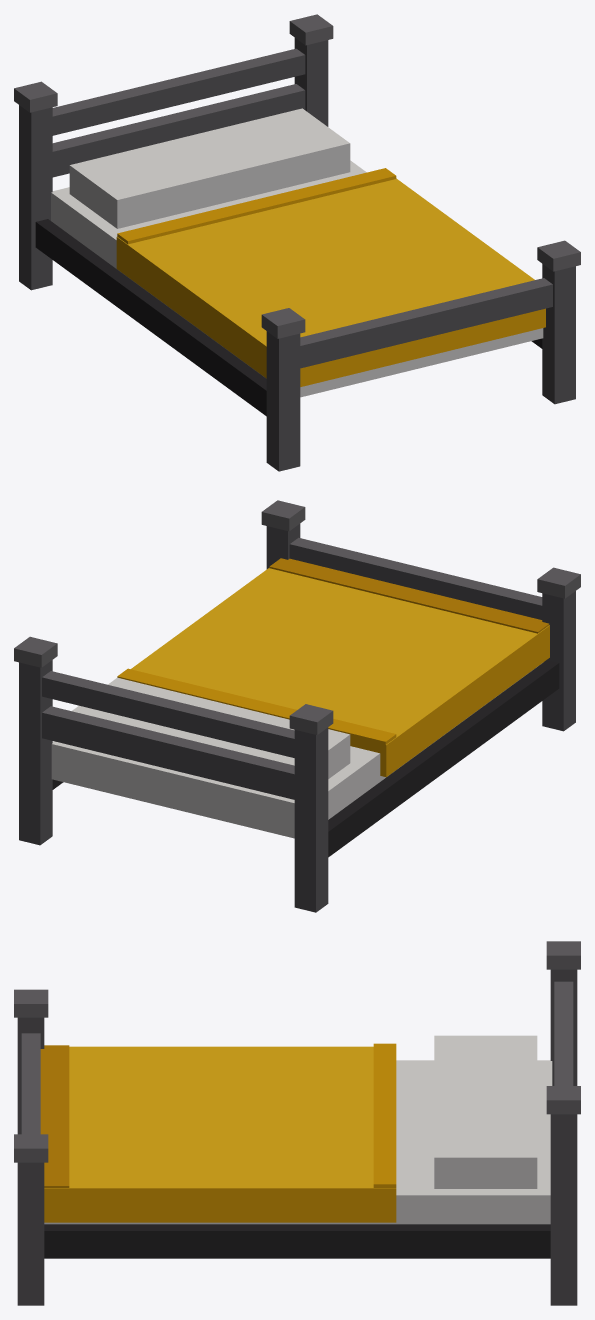
The model's file is bed_basic.fbx.
3 views of the same model, one above another, from view 1: azimuth 30°, elevation 25°; view 2: azimuth 150°, elevation 25°; view 3: azimuth 270°, elevation 25° (orthographic). The views are drawn at different scales.
Parts seen in each view (by area): view 1: bed_basic; view 2: bed_basic; view 3: bed_basic.
Boxes of the visible parts, bbox=[...] form: bed_basic: bbox=[14, 14, 580, 471]; bed_basic: bbox=[14, 500, 580, 912]; bed_basic: bbox=[14, 941, 580, 1305].
Bounding box in the file's own units: 0.99 × 0.6 × 1.49.
